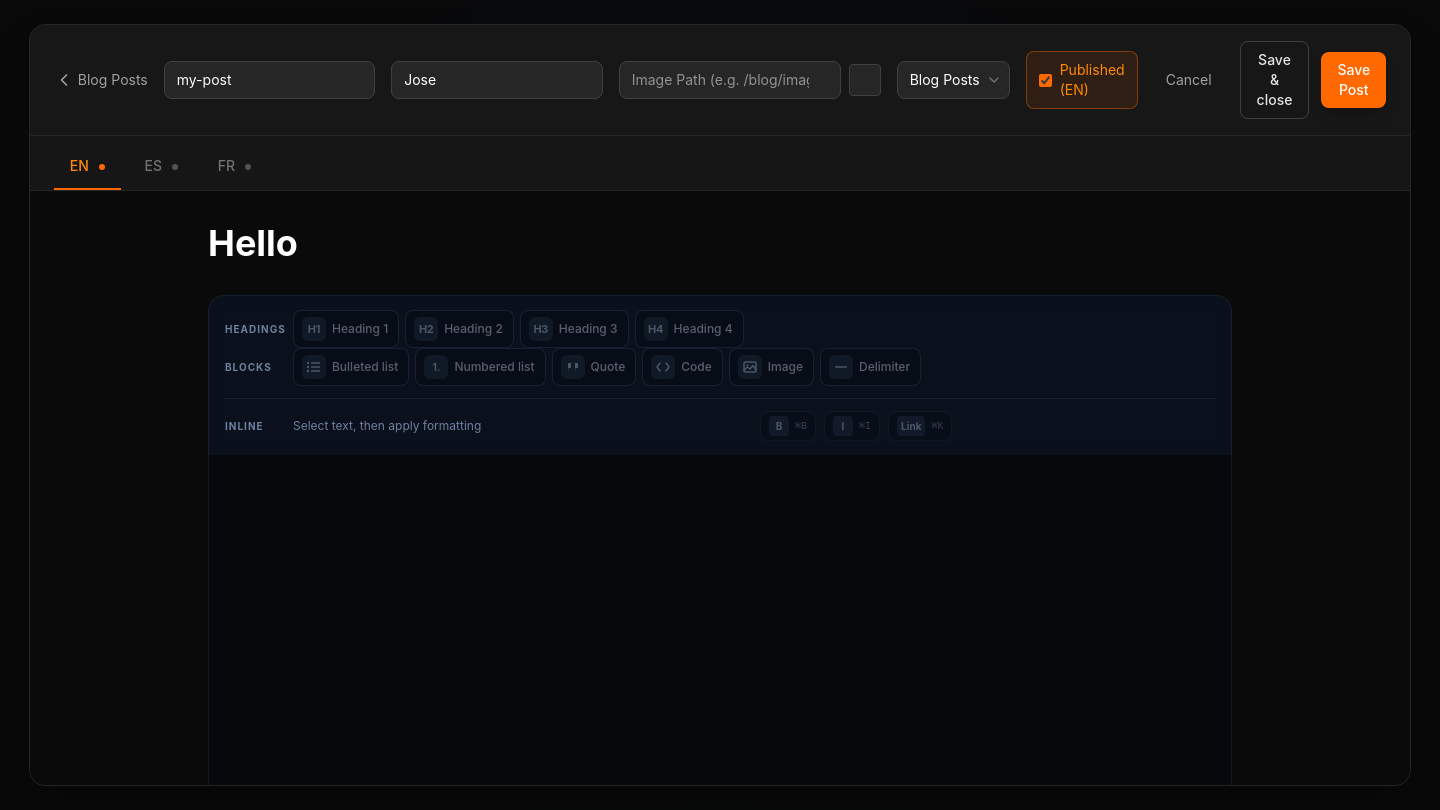
Test case: AdminEditor navigation › saves with PUT and stays in the editor showing feedback
The image size is (1440, 810).
Replace the text in the 1st field named "slug" with "changed-slug" at [270, 80], box 164,61 -> 375,99
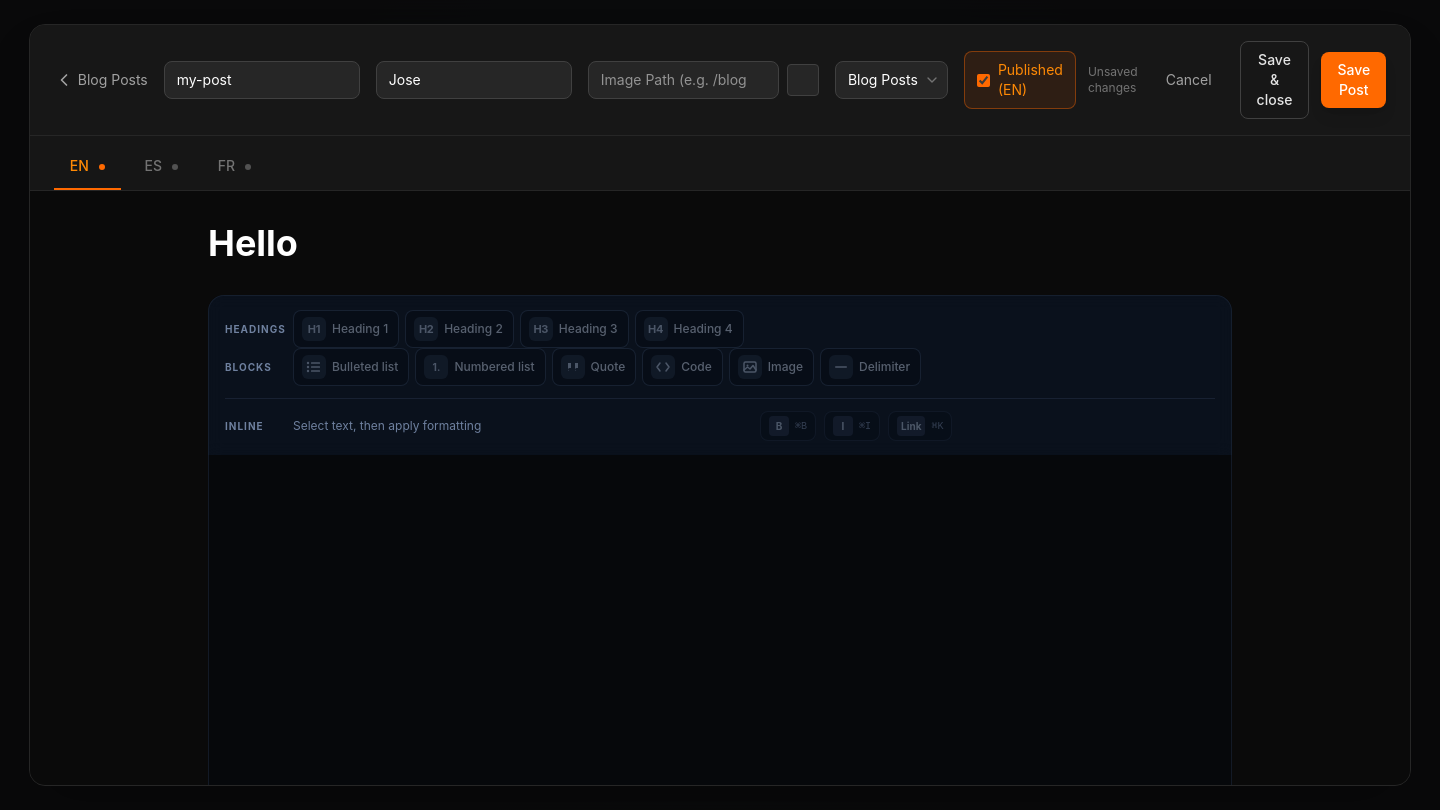
Click the button "Save Post" at [1354, 80], box 1321,52 -> 1386,108
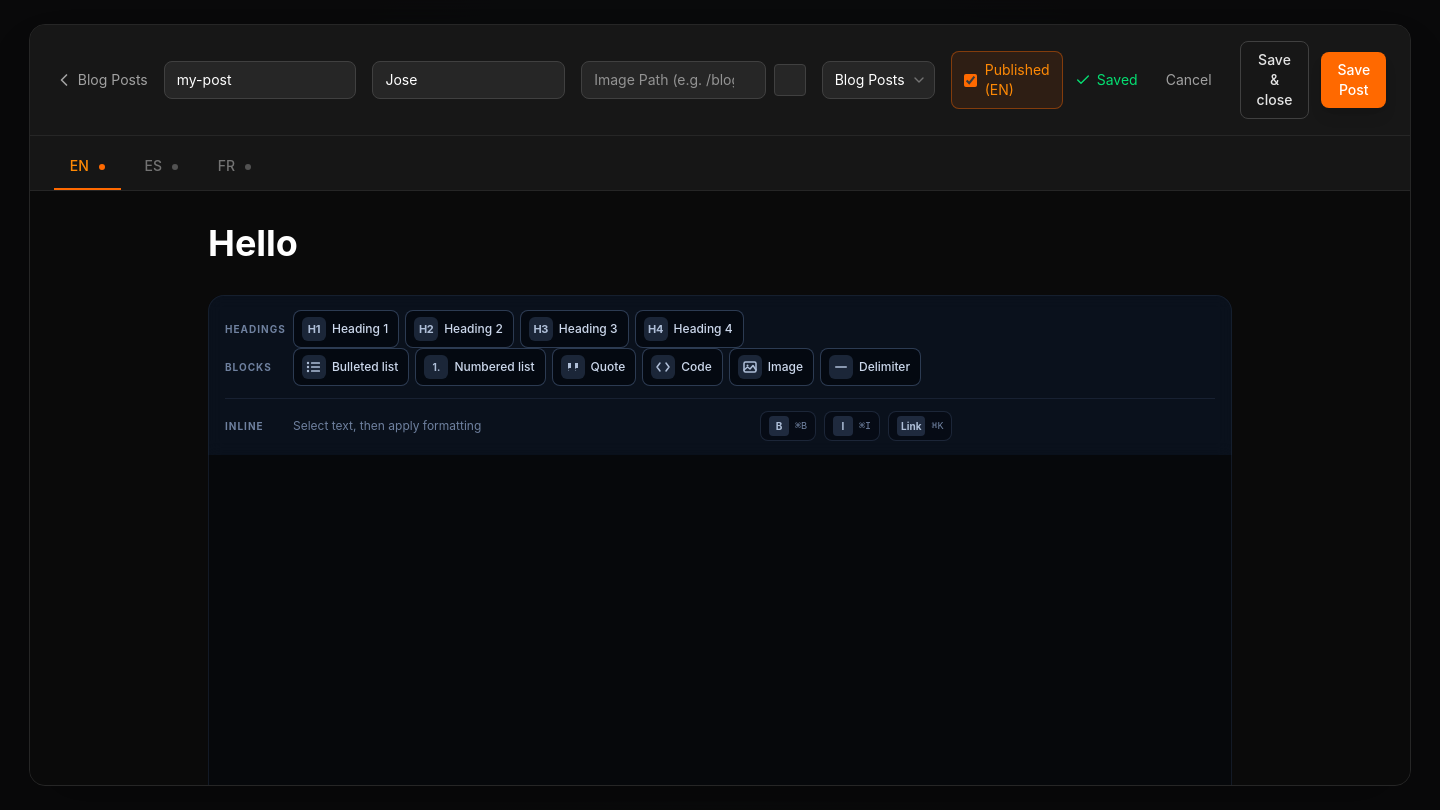
Check: the text "Saved" is shown, box 1075,70 -> 1138,90
Check: the text "Unsaved changes" is gone
